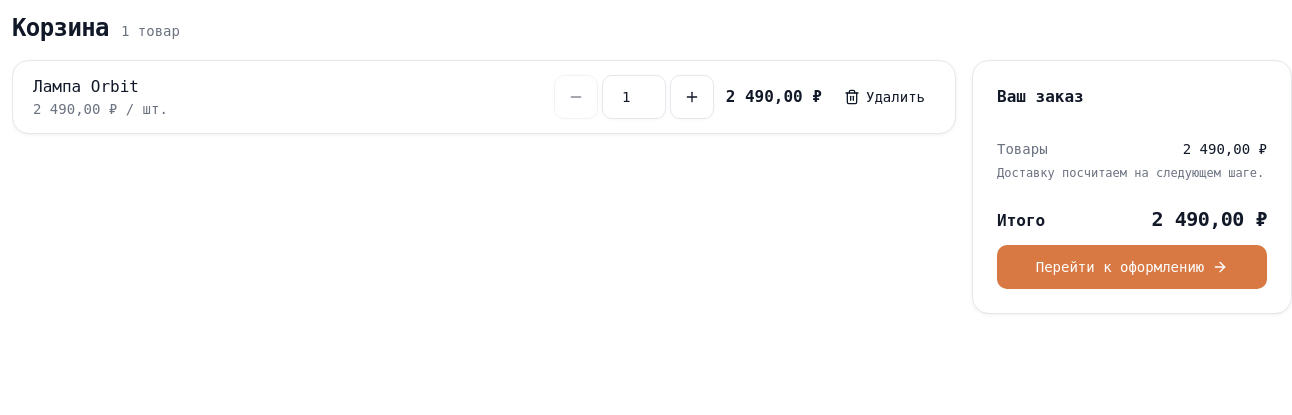
Scenario: CartPage › показывает ошибку остатка и оставляет корзину
Expected: the text "Лампа Orbit" is shown, [33, 77, 139, 96]
Click the button named "Увеличить количество" at {"x": 692, "y": 97}, box [670, 75, 714, 119]
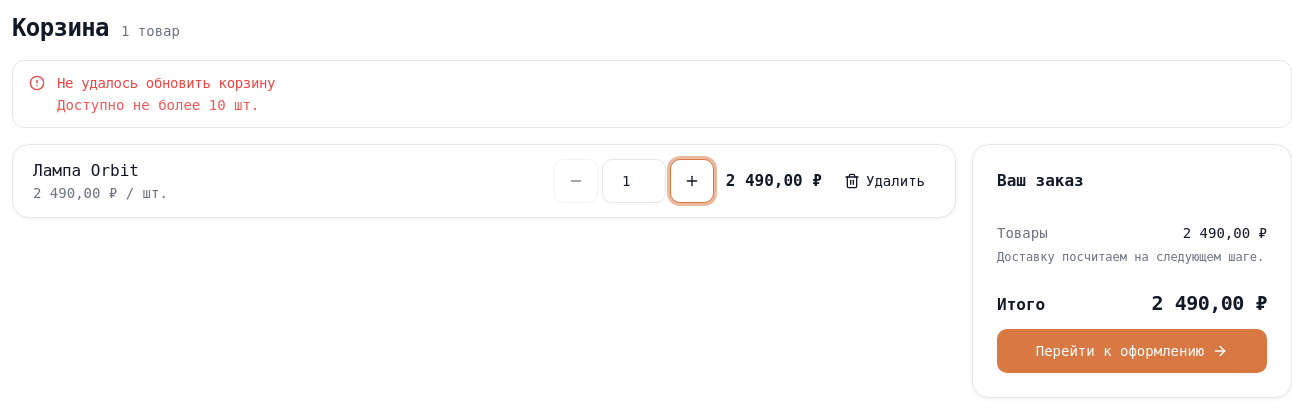
Expected: the text "Лампа Orbit" is shown, [33, 161, 139, 180]
Expected: the text "Не удалось обновить корзину" is shown, [57, 75, 275, 91]
Expected: the text "Доступно не более 10 шт." is shown, [57, 97, 259, 113]
